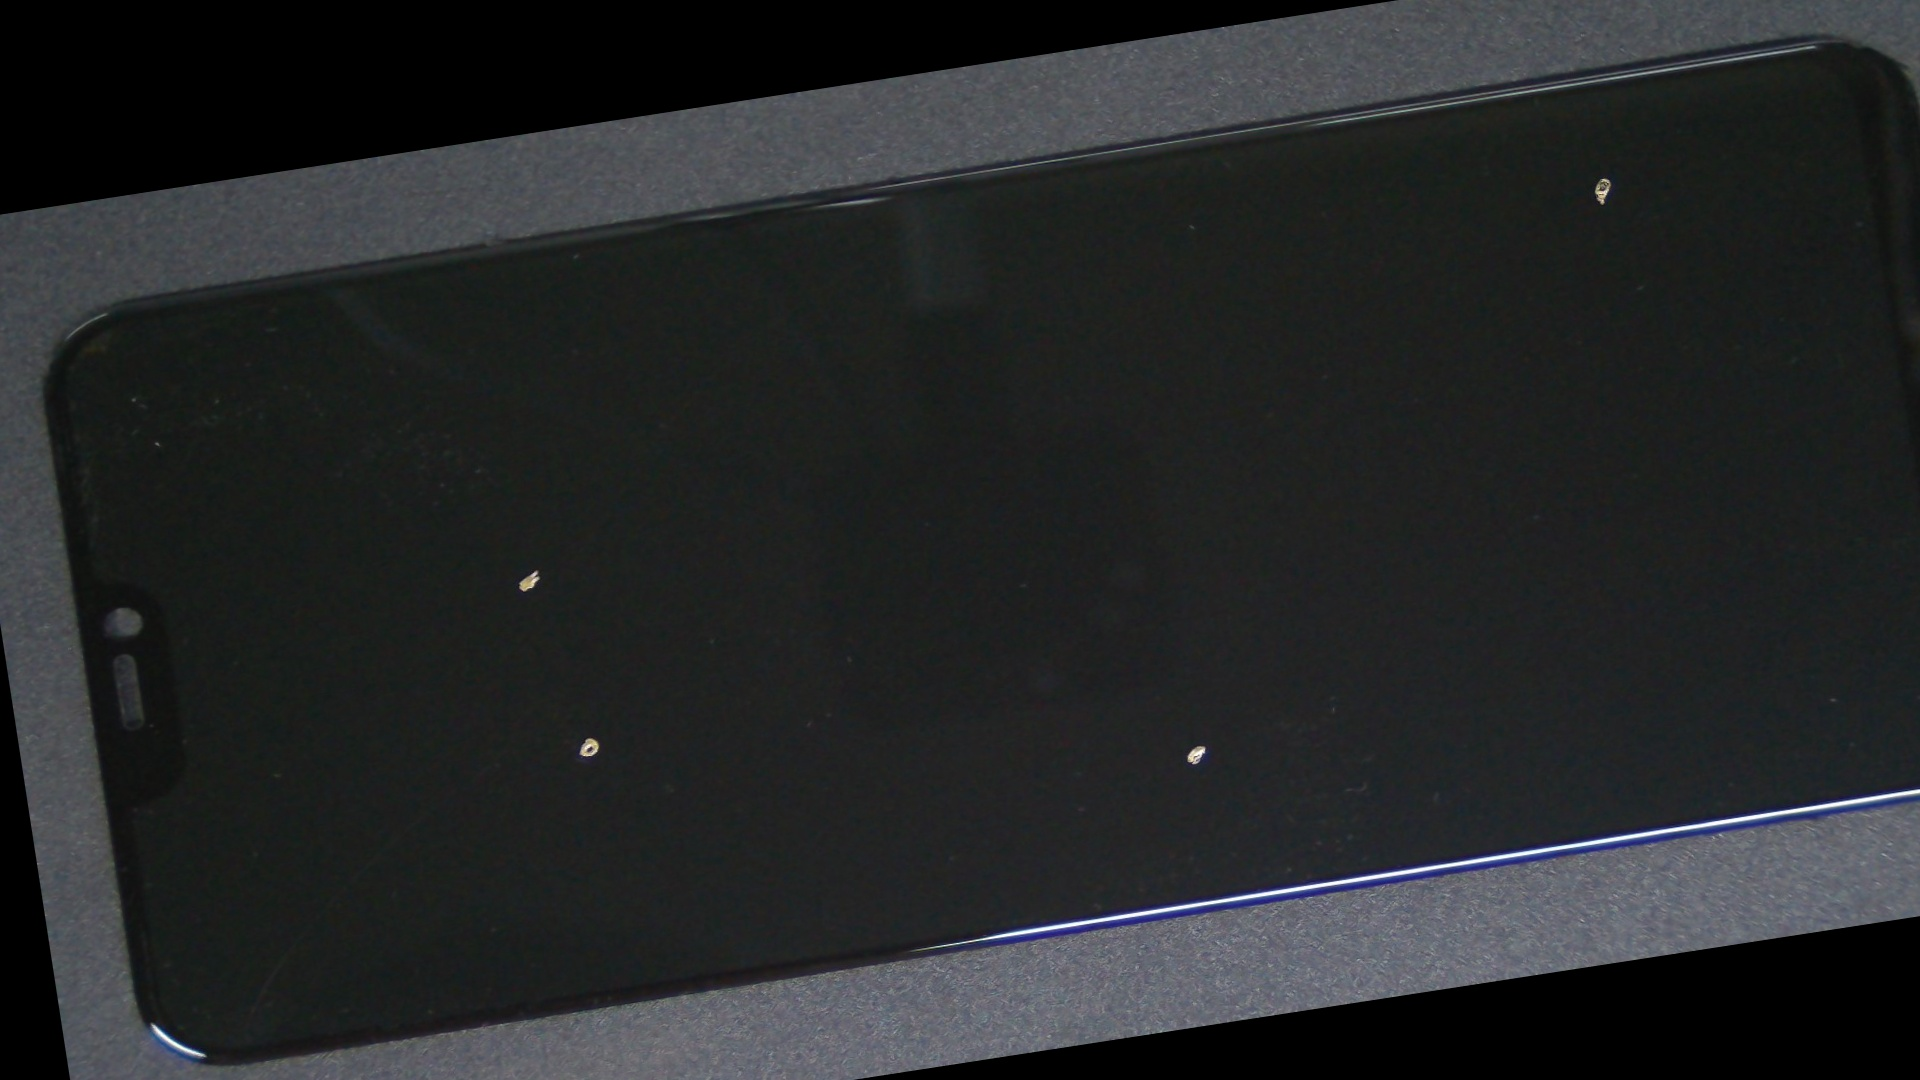oil: (571, 305, 1812, 1080), (767, 15, 1920, 405), (265, 394, 914, 1077), (239, 313, 835, 820)
